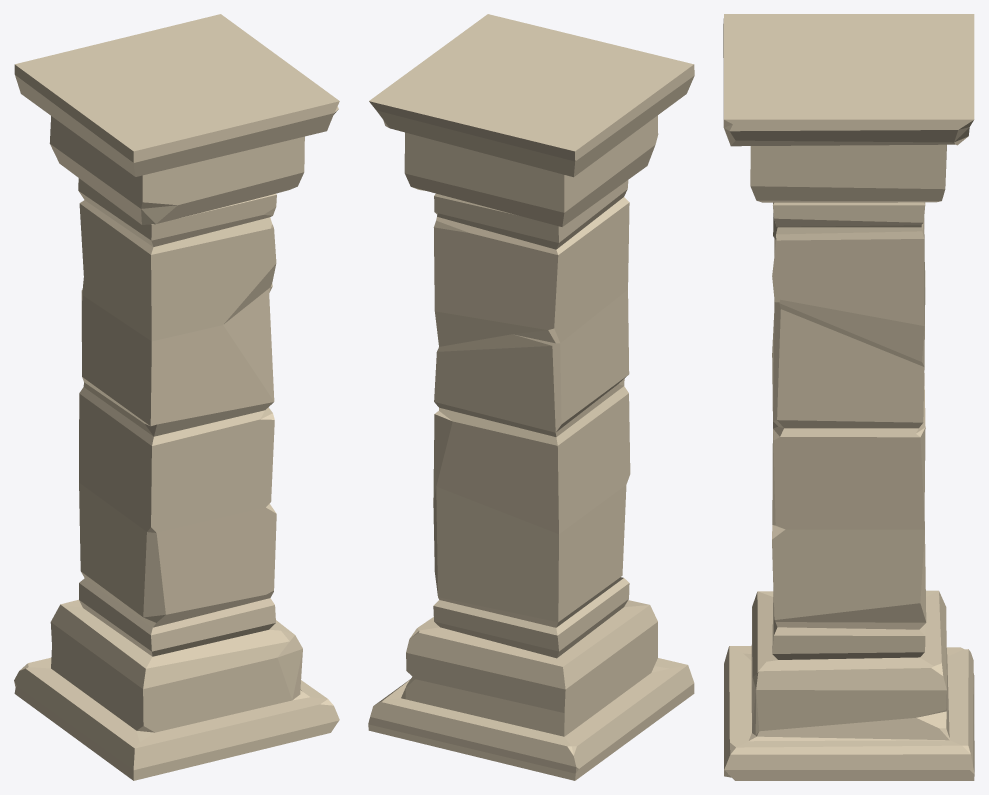
Rendered from SM_SM_Peller_03.001.fbx.
3 renders of one model, left to right at view 1: azimuth 30°, elevation 25°; view 2: azimuth 150°, elevation 25°; view 3: azimuth 270°, elevation 25°, orthographic. The views are drawn at different scales.
Visible parts, largest first — view 1: SM_Peller_03.001; view 2: SM_Peller_03.001; view 3: SM_Peller_03.001.
Boxes of the visible parts, x1=… form: SM_Peller_03.001: x1=14, y1=14, x2=339, y2=780; SM_Peller_03.001: x1=368, y1=14, x2=694, y2=780; SM_Peller_03.001: x1=723, y1=14, x2=974, y2=780.
Size of the model in its own units: 104 by 300 by 103.
